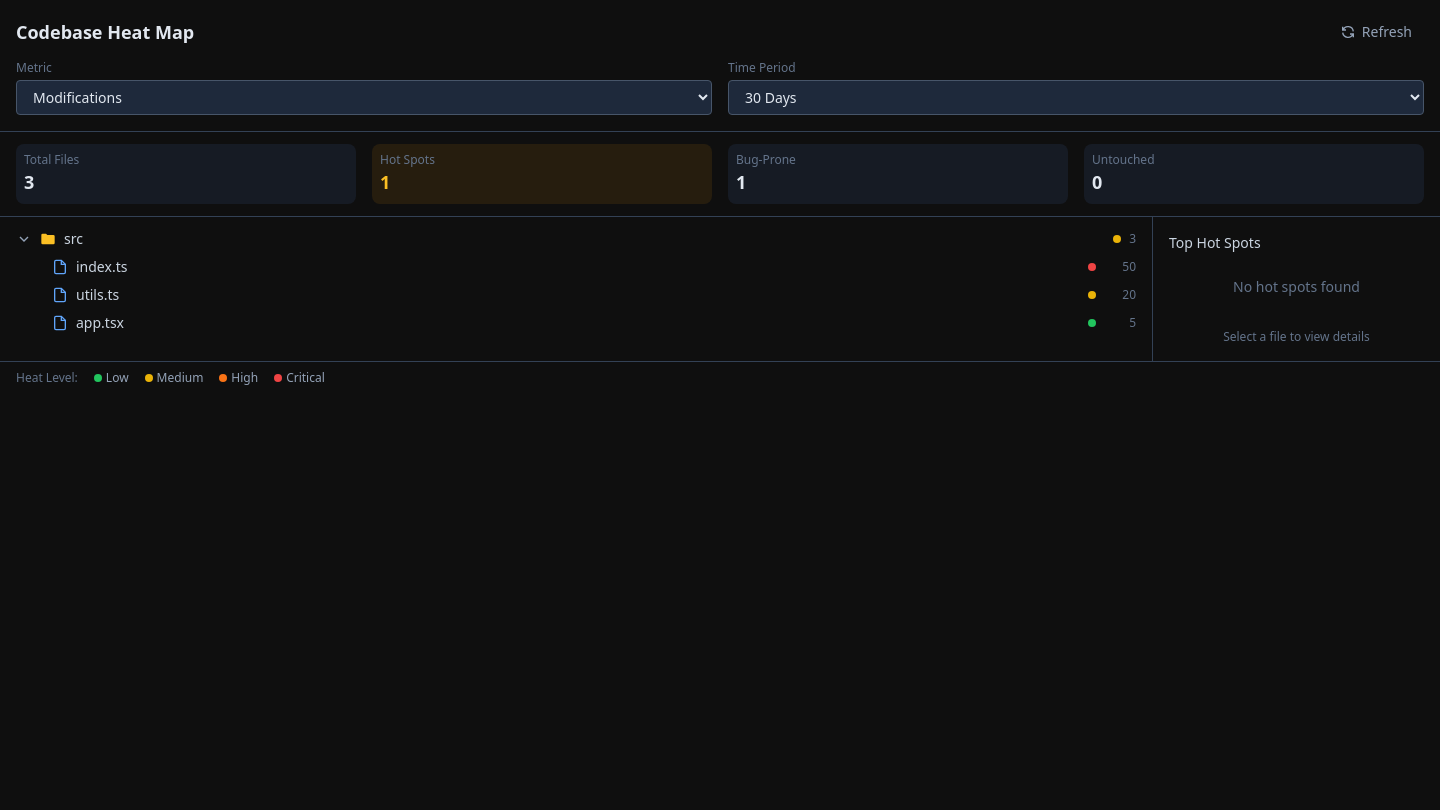
Scenario: HeatMapPanel › File Selection › should show file detail when file is selected
The width and height of the screenshot is (1440, 810).
expect the element with test id "tree-view" is shown: met, box [8,225,1144,337]
// Click on a file
Click the button with test id "file-src/index.ts" at (102, 266), box [8,253,1144,281]
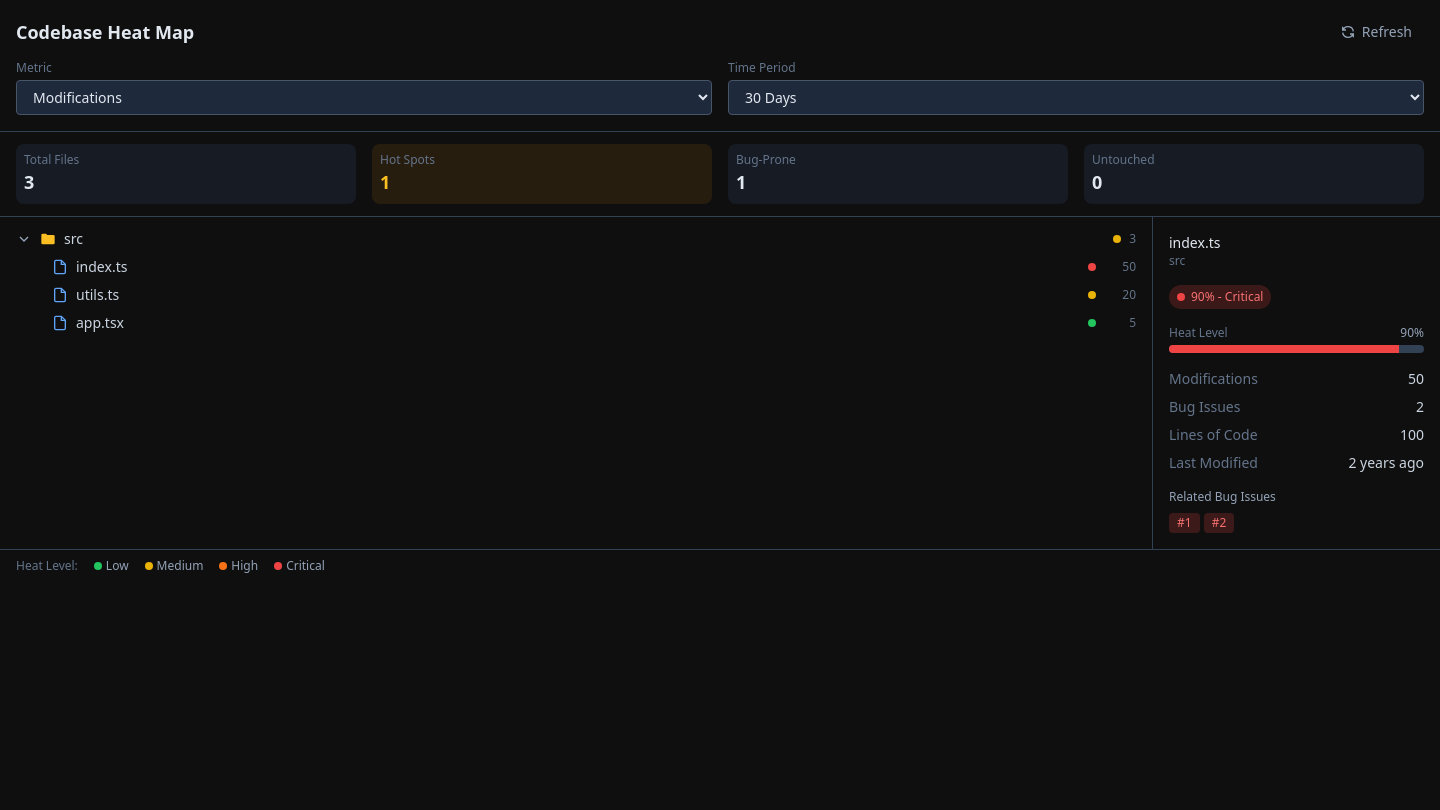
expect the element with test id "file-detail" is shown: met, box [1169,233,1424,533]
expect the heading "index.ts" is shown: met, box [1169,233,1220,252]
